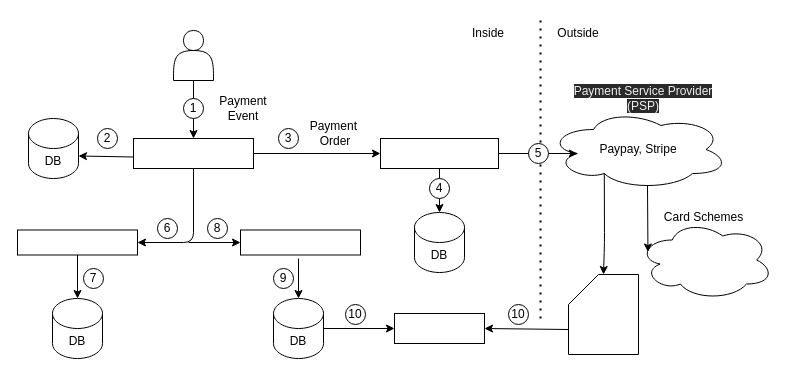
Image size: 791x376. Some labels were removed from this diagram. Each missing label, with the centre of its shape:
"Ledger" belongs at (300,242).
"Payment Executor" belongs at (439,153).
"Payment Service" belongs at (193,153).
"Reconcilation" belongs at (439,328).
"Settlement File" belongs at (603,314).
"User" belongs at (193,55).
"Visa, Master" belongs at (706,259).
"Wallet" belongs at (77,242).
